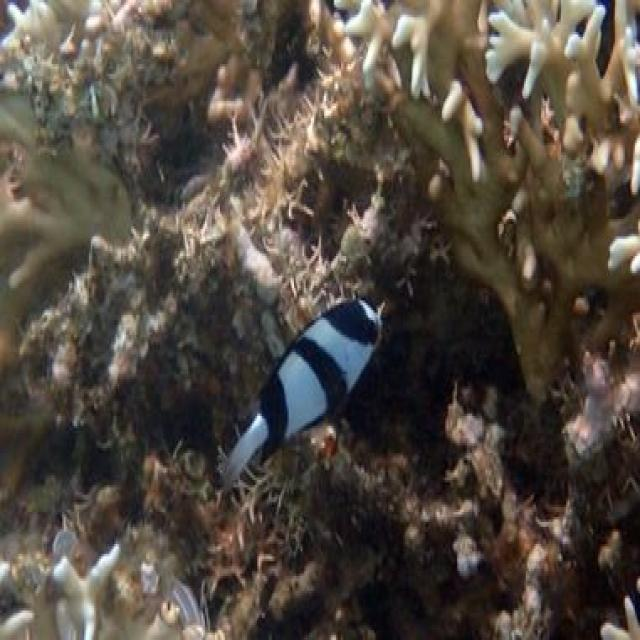Three_striped DasmselFish: (216, 297, 387, 487)
